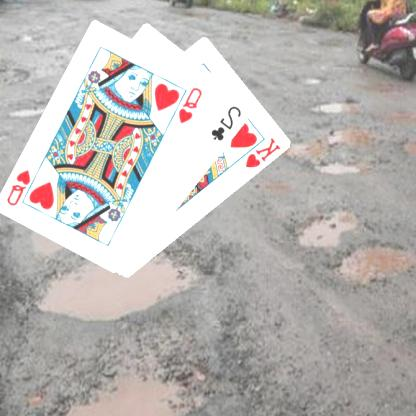2C: (210, 103, 245, 142)
KH: (244, 134, 284, 170)
QH: (6, 166, 43, 208), (178, 84, 206, 125)
